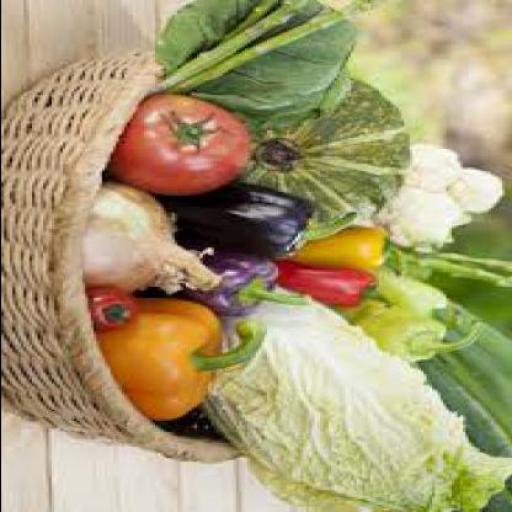biodegradable: (199, 281, 511, 510), (238, 74, 411, 237), (165, 0, 386, 116), (389, 305, 511, 511), (109, 292, 266, 419), (84, 179, 226, 292), (110, 93, 254, 194), (171, 184, 358, 255), (383, 144, 504, 247), (176, 253, 314, 317), (349, 300, 490, 360), (367, 270, 475, 321), (389, 241, 511, 286), (291, 258, 397, 306), (302, 229, 414, 273), (86, 285, 143, 329)
